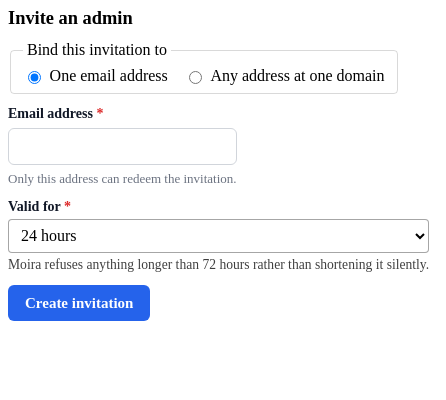
Test: InviteAdminForm — the gate blocks, warns, and says which › an empty value is refused locally without a request
This screenshot has width=446, height=400.
Click the button "Create invitation".
click(79, 303)  # box [8, 284, 150, 321]
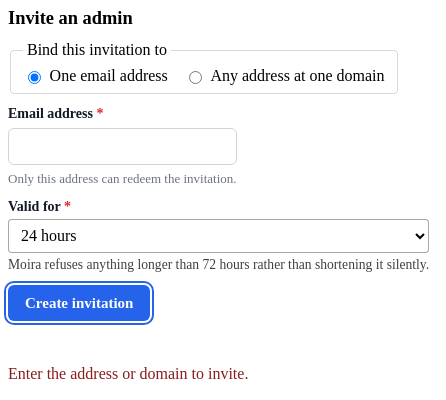
Expected: the text "Enter the address or domain to invite." is shown, [8, 365, 248, 383]
